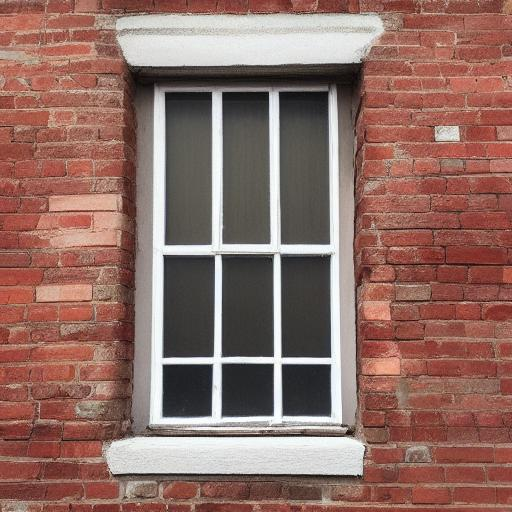Window: (102, 14, 386, 478)
